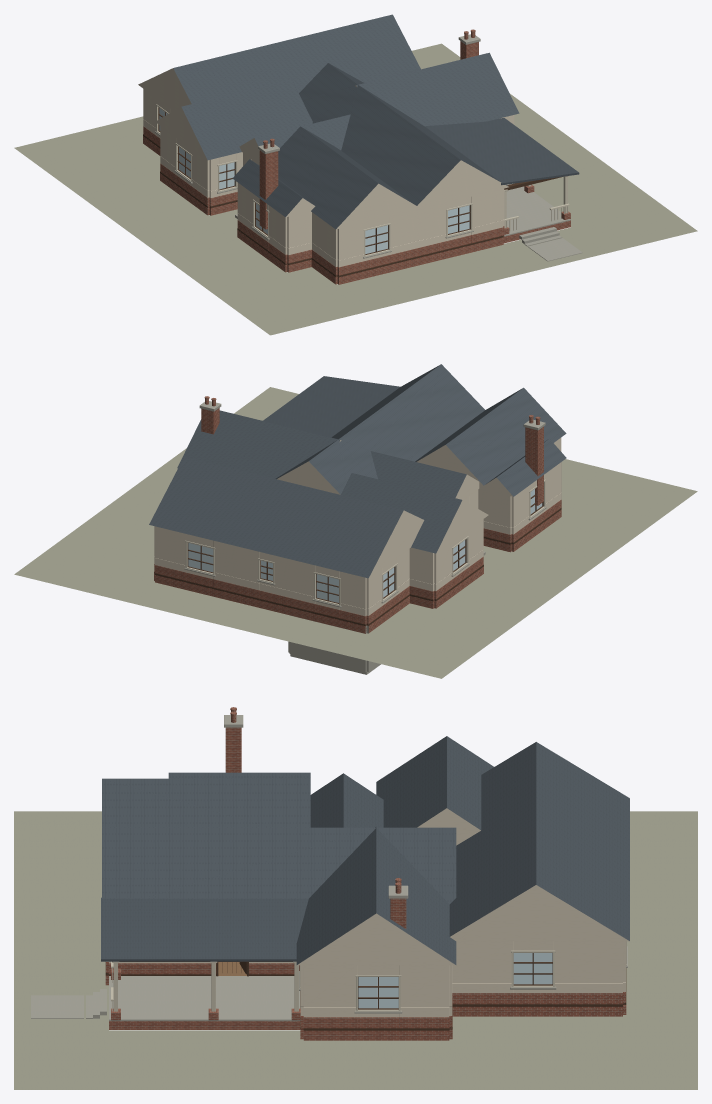
Rendered from manor.glb.
3 renders of one model, top to bottom at view 1: azimuth 30°, elevation 25°; view 2: azimuth 150°, elevation 25°; view 3: azimuth 270°, elevation 25°, orthographic. The views are drawn at different scales.
Parts seen in each view (by area): view 1: MS_Complete_CrossGable_Roof, MS_Ground_OutsideFootprint, MS_Porch_SlopingCanopy, MS_Porch_StoneDeck, MS_South_Pier_Band_1.001, MS_South_Foundation, MS_Reception_BrickChimney, MS_South_End_Band_1.0, MS_South_Pier_Band_1.0, MS_Reception_SW_Return_End_Band_1.0, MS_Reception_Notch_End_Band_1.0, MS_Entry_Approach (+5 smaller); view 2: MS_Complete_CrossGable_Roof, MS_Ground_OutsideFootprint, MS_Porch_SlopingCanopy, MS_North_Foundation, MS_North_Pier_Band_1.002, MS_North_Pier_Band_1.001, MS_Reception_BrickChimney, MS_Cellar_RetainingWall, MS_Reception_N_Return_End_Band_1.0, MS_North_End_Band_1.0, MS_North_Pier_Band_1.0, MS_EmiliaBedroom_N_Return_End_Band_1.0 (+5 smaller); view 3: MS_Complete_CrossGable_Roof, MS_Ground_OutsideFootprint, MS_Porch_SlopingCanopy, MS_Porch_StoneDeck, MS_DoctorBedroom_E_Pier_Band_1.0, MS_DoctorBedroom_E_End_Band_1.0, MS_DoctorStudy_E_End_Band_1.0, MS_DoctorStudy_E_Pier_Band_1.0, MS_DoctorBedroom_E_Foundation, MS_Porch_BrickBase, MS_DoctorStudy_E_Foundation, MS_Entry_Approach (+9 smaller).
Boxes of the visible parts, x1,y1,x2,y2 form: MS_Complete_CrossGable_Roof: (138, 14, 519, 229); MS_Ground_OutsideFootprint: (14, 43, 697, 335); MS_Porch_SlopingCanopy: (425, 118, 579, 185); MS_Porch_StoneDeck: (504, 183, 570, 236); MS_South_Pier_Band_1.001: (389, 202, 447, 247); MS_South_Foundation: (337, 237, 503, 284); MS_Reception_BrickChimney: (259, 150, 278, 229); MS_South_End_Band_1.0: (471, 189, 503, 227); MS_South_Pier_Band_1.0: (337, 222, 364, 260); MS_Reception_SW_Return_End_Band_1.0: (312, 212, 337, 259); MS_Reception_Notch_End_Band_1.0: (287, 211, 311, 247); MS_Entry_Approach: (528, 238, 582, 261); MS_Complete_CrossGable_Roof: (149, 364, 566, 578); MS_Ground_OutsideFootprint: (14, 387, 697, 678); MS_Porch_SlopingCanopy: (263, 376, 400, 437); MS_North_Foundation: (155, 575, 366, 633); MS_North_Pier_Band_1.002: (213, 541, 259, 583); MS_North_Pier_Band_1.001: (273, 555, 315, 596); MS_Reception_BrickChimney: (525, 426, 543, 505); MS_Cellar_RetainingWall: (289, 615, 366, 672); MS_Reception_N_Return_End_Band_1.0: (478, 488, 511, 527); MS_North_End_Band_1.0: (155, 526, 186, 565); MS_North_Pier_Band_1.0: (339, 571, 366, 608); MS_EmiliaBedroom_N_Return_End_Band_1.0: (409, 547, 434, 584); MS_Complete_CrossGable_Roof: (102, 736, 629, 965); MS_Ground_OutsideFootprint: (14, 811, 697, 1089); MS_Porch_SlopingCanopy: (101, 897, 308, 961); MS_Porch_StoneDeck: (109, 976, 300, 1021); MS_DoctorBedroom_E_Pier_Band_1.0: (553, 941, 622, 983); MS_DoctorBedroom_E_End_Band_1.0: (452, 941, 513, 983); MS_DoctorStudy_E_End_Band_1.0: (303, 965, 357, 1007); MS_DoctorStudy_E_Pier_Band_1.0: (399, 965, 449, 1007); MS_DoctorBedroom_E_Foundation: (452, 1006, 622, 1016); MS_Porch_BrickBase: (109, 1021, 300, 1029); MS_DoctorStudy_E_Foundation: (303, 1030, 449, 1040); MS_Entry_Approach: (31, 995, 83, 1018).
Size of what is drawn, in the model's own units: 26.4 by 9.24 by 27.4.
Materials: 13 (11 with a texture image).
